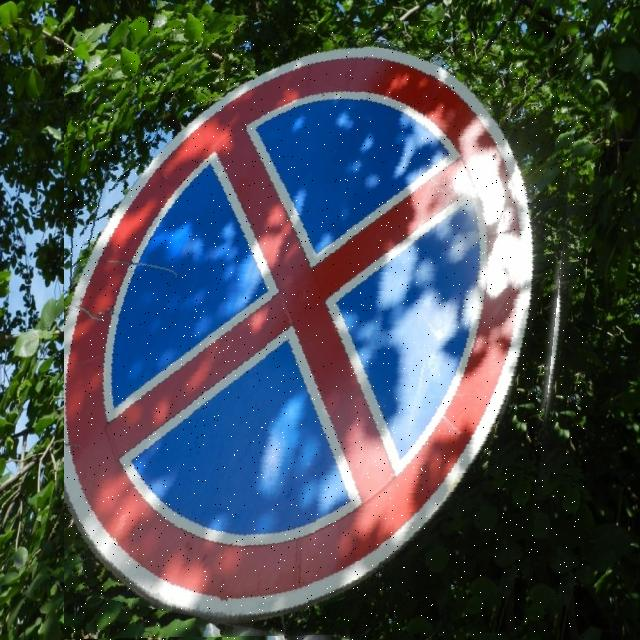no stopping: (64, 21, 587, 640)
